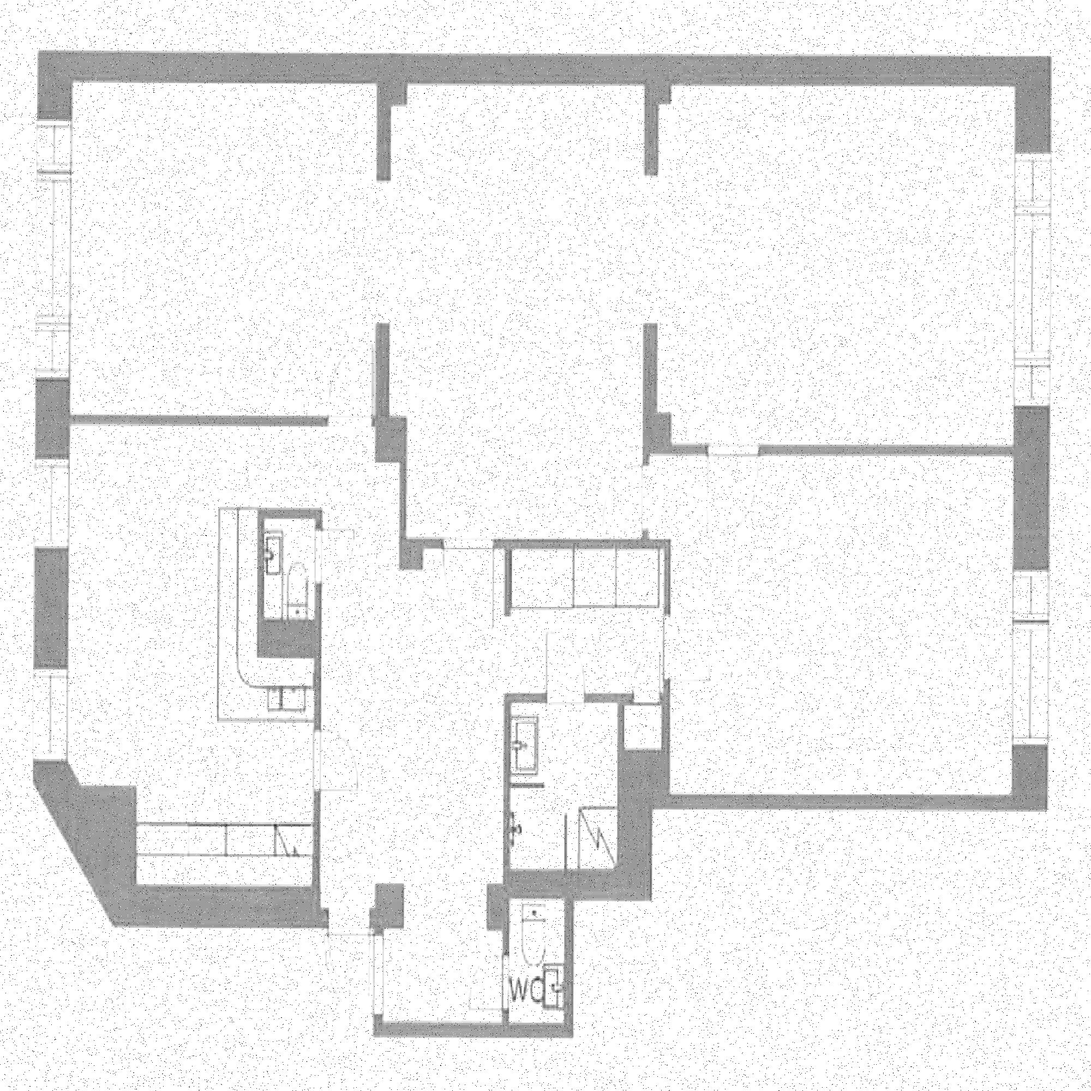wall: (33, 55, 1051, 89), (1014, 55, 1051, 809), (33, 55, 69, 786), (33, 768, 137, 927), (113, 885, 321, 927), (669, 792, 1051, 809), (33, 415, 407, 428), (670, 444, 1051, 454), (618, 793, 651, 900), (373, 1022, 574, 1039), (422, 540, 669, 552), (618, 751, 669, 809), (313, 510, 320, 928), (564, 869, 652, 900), (502, 694, 509, 1038), (502, 869, 574, 898), (502, 694, 669, 706), (258, 622, 313, 656), (564, 870, 574, 1038), (376, 55, 407, 106), (662, 539, 669, 751), (373, 907, 384, 1039), (642, 324, 658, 413), (642, 55, 671, 104), (376, 416, 407, 461), (376, 323, 389, 426), (321, 907, 384, 928), (641, 413, 671, 455), (375, 884, 403, 928), (641, 105, 658, 177), (486, 883, 510, 930), (376, 107, 390, 182), (641, 454, 650, 552), (258, 510, 266, 619), (618, 792, 669, 809), (400, 461, 407, 569), (258, 510, 320, 522), (400, 540, 422, 569), (504, 539, 511, 617), (662, 751, 669, 809), (618, 694, 625, 751), (258, 620, 266, 656)
